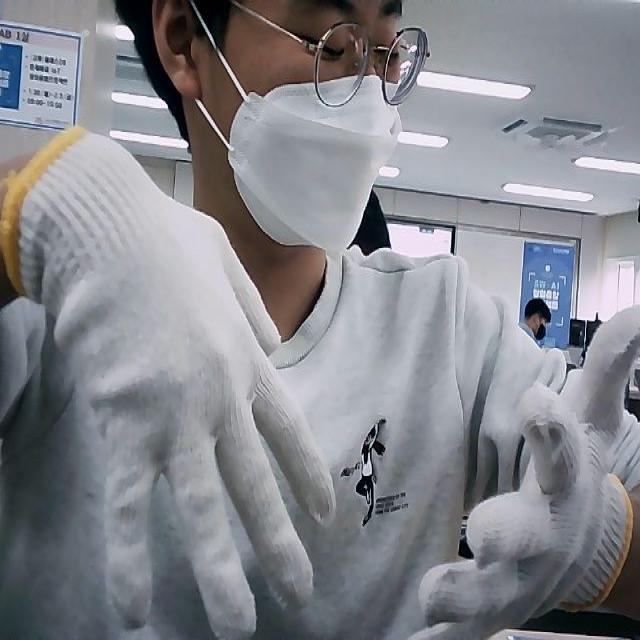Guantes: (0, 121, 335, 640), (411, 310, 640, 640)
